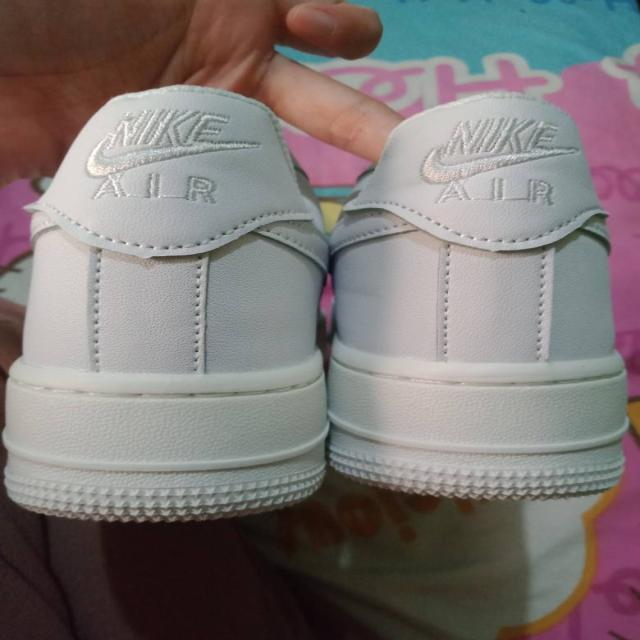nike fake air force: (3, 84, 333, 526), (320, 82, 640, 502)
